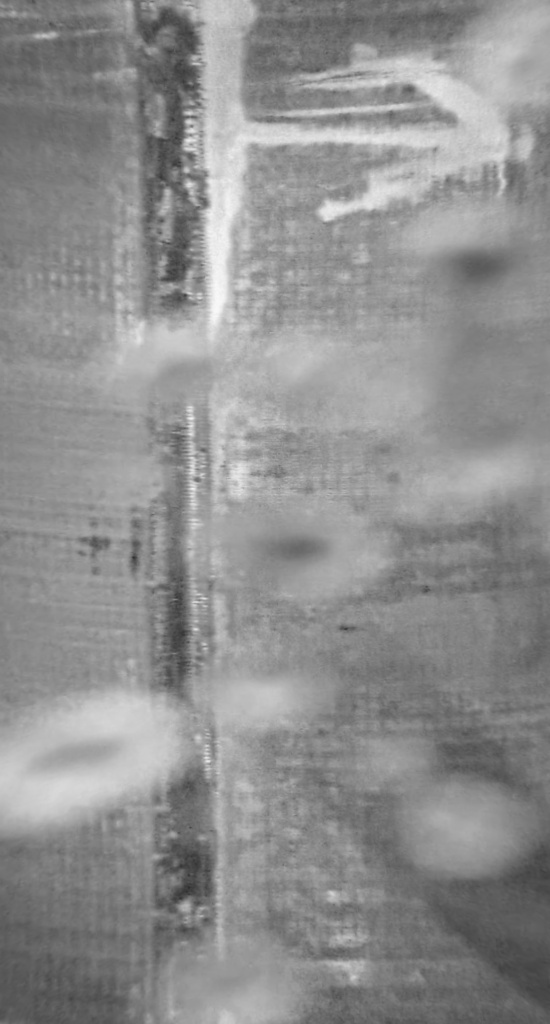splice: (131, 1, 228, 1024)
